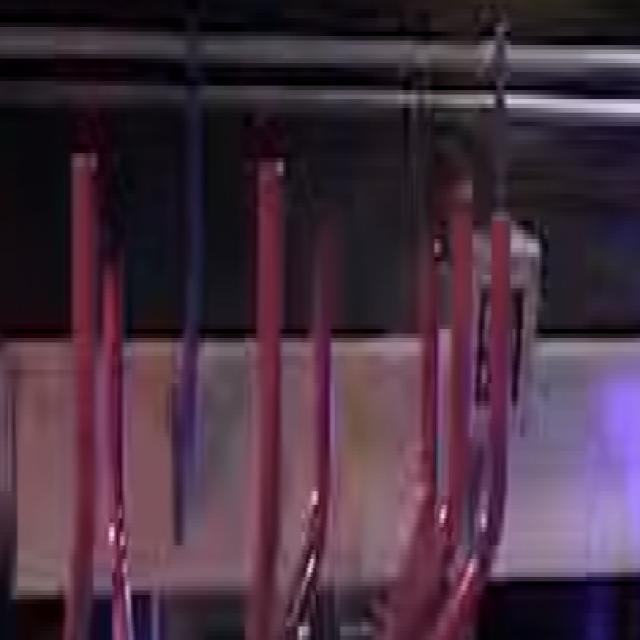Reef: (71, 155, 98, 577), (257, 158, 282, 464), (490, 212, 509, 550), (452, 187, 473, 467), (103, 261, 121, 525), (314, 248, 332, 511), (423, 240, 438, 468)
